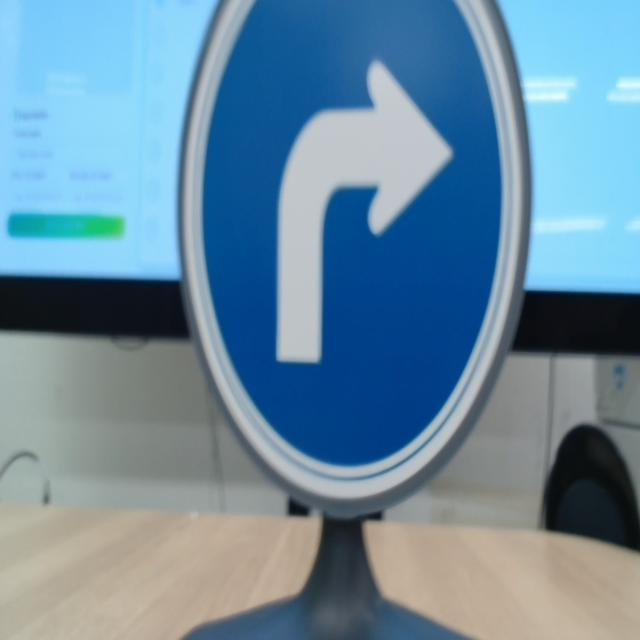right_dierection: (165, 0, 534, 508)
